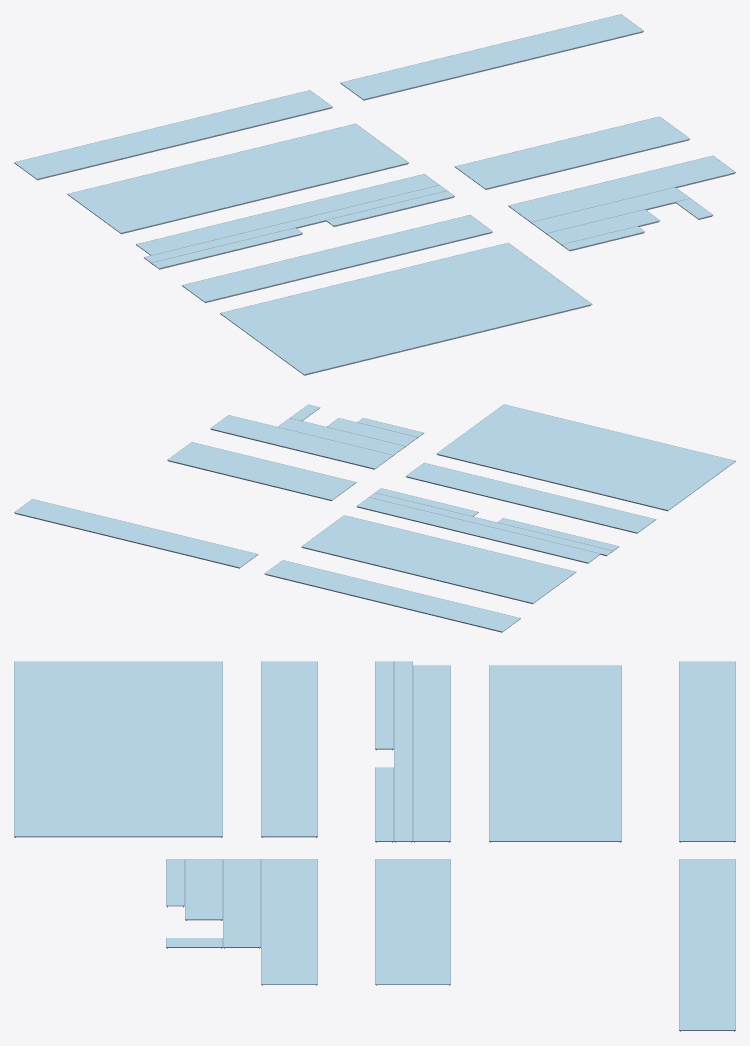
Rendered from SM_MPRR_SolarBank_02_0.fbx.
The picture shows the model from 3 angles, top to bottom: view 1: azimuth 30°, elevation 25°; view 2: azimuth 150°, elevation 25°; view 3: azimuth 270°, elevation 25°; orthographic projection. The views are drawn at different scales.
Parts seen in each view (by area): view 1: SM_MPRR_SolarBank_02_0; view 2: SM_MPRR_SolarBank_02_0; view 3: SM_MPRR_SolarBank_02_0.
Boxes of the visible parts, x1=… form: SM_MPRR_SolarBank_02_0: x1=14, y1=14, x2=735, y2=375; SM_MPRR_SolarBank_02_0: x1=14, y1=404, x2=735, y2=632; SM_MPRR_SolarBank_02_0: x1=14, y1=661, x2=735, y2=1031.
Size of the model in its own units: 8960 by 7410 by 24.6.
